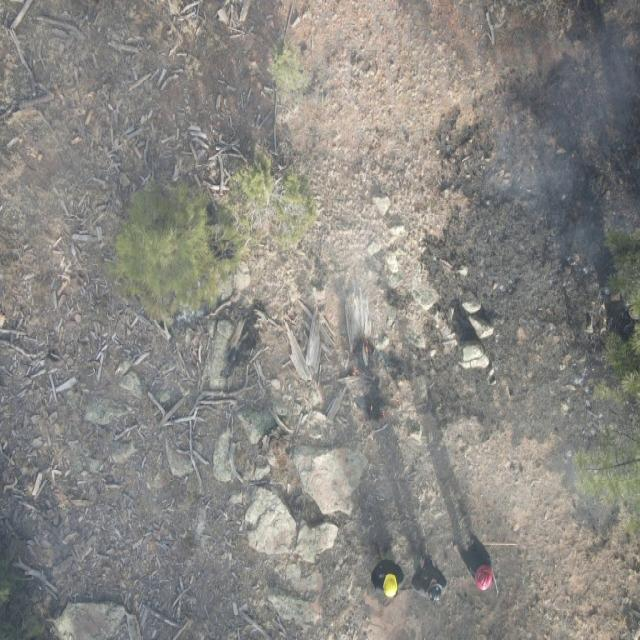fire: (368, 401, 388, 420), (358, 336, 372, 356), (350, 365, 364, 379)
smoke: (2, 0, 640, 640)
